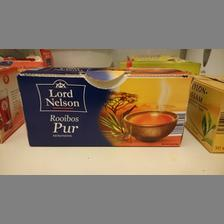Tee: (15, 65, 188, 147)
